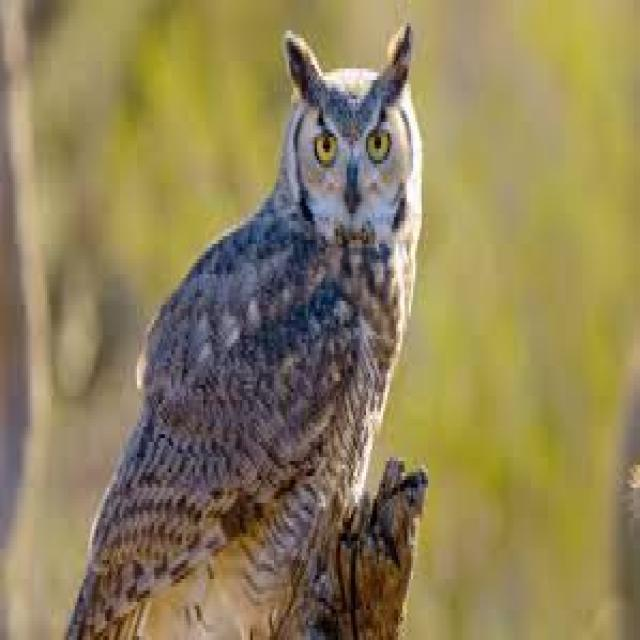Owl: (48, 21, 427, 640)
